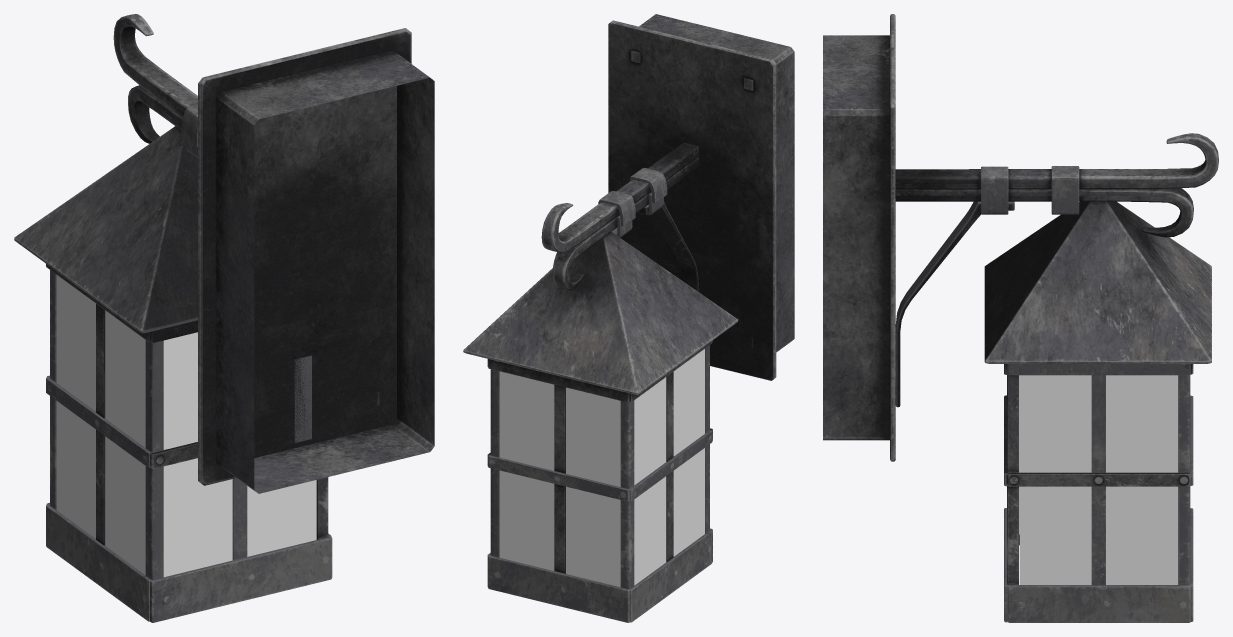
Rendered from lantern.glb.
The picture shows the model from 3 angles, left to right: view 1: azimuth 30°, elevation 25°; view 2: azimuth 150°, elevation 25°; view 3: azimuth 270°, elevation 25°; orthographic projection. The views are drawn at different scales.
Visible parts, largest first — view 1: Wall_Mounted_Metal_Square_Candle_House_Wall_Mounted_Metal_Sq; view 2: Wall_Mounted_Metal_Square_Candle_House_Wall_Mounted_Metal_Sq; view 3: Wall_Mounted_Metal_Square_Candle_House_Wall_Mounted_Metal_Sq.
Part boxes in pixels (x1=…): Wall_Mounted_Metal_Square_Candle_House_Wall_Mounted_Metal_Sq: x1=14, y1=14, x2=434, y2=622; Wall_Mounted_Metal_Square_Candle_House_Wall_Mounted_Metal_Sq: x1=463, y1=14, x2=794, y2=622; Wall_Mounted_Metal_Square_Candle_House_Wall_Mounted_Metal_Sq: x1=823, y1=14, x2=1218, y2=622.
Size of the model in its own units: 2.01 by 5.12 by 3.49.
2 materials, 1 textured.
